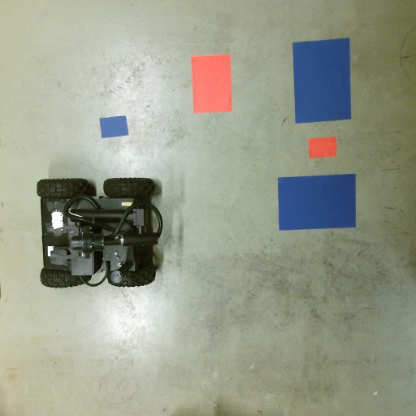Blue: (290, 37, 355, 125), (276, 173, 359, 230), (97, 115, 131, 138)
Jaguar: (34, 176, 166, 290)
Red: (189, 53, 234, 113), (306, 137, 339, 161)
